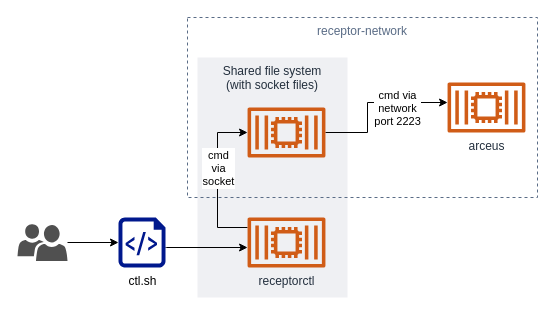
Some shapes in this 555 by 315 pixel diagram are drawn without their labels. The shapes that lost their labels are listed below. From the top down, each one's centre as x and y in pixels, then its label:
At point 286,132: "celebi".
At point 42,242: "user".
